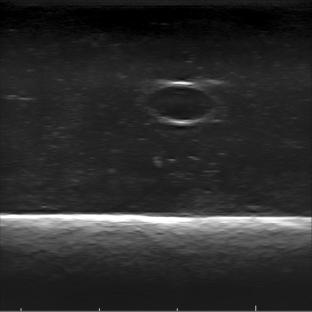vessel: (147, 80, 214, 126)
